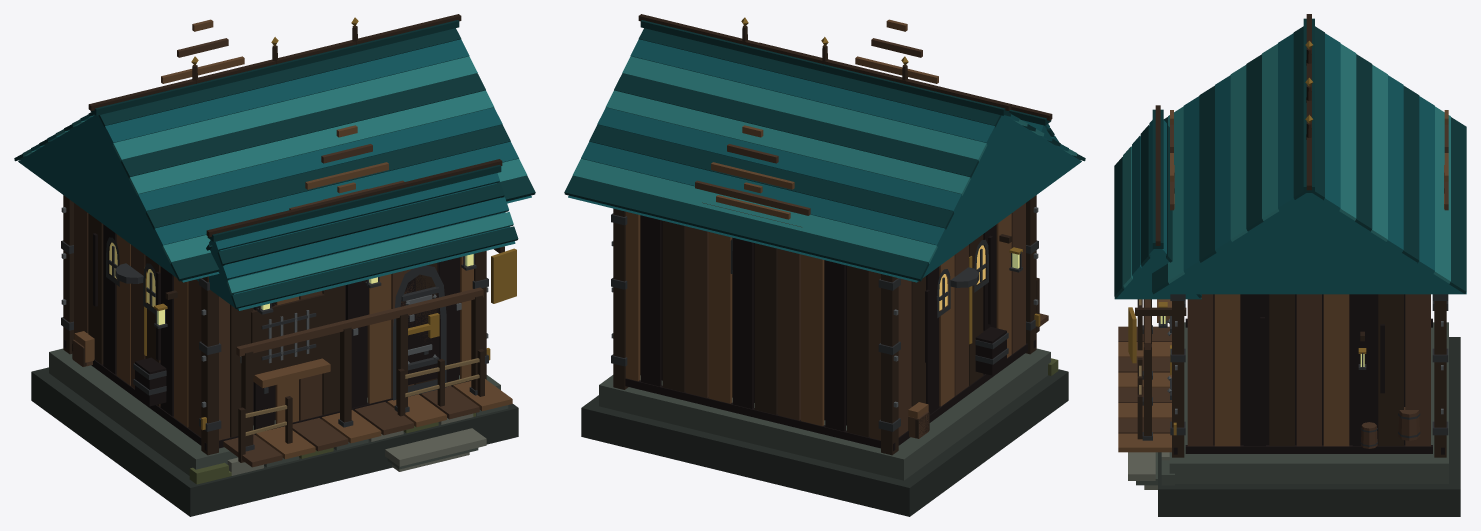
The model's file is fenbridge_gilded_strongbox.glb.
3 renders of one model, left to right at view 1: azimuth 30°, elevation 25°; view 2: azimuth 150°, elevation 25°; view 3: azimuth 270°, elevation 25°, orthographic. The views are drawn at different scales.
Parts seen in each view (by area): view 1: FenbridgeGildedStrongbox_FenbridgeOpaque, FenbridgeGildedStrongbox_FenbridgeEmissive; view 2: FenbridgeGildedStrongbox_FenbridgeOpaque; view 3: FenbridgeGildedStrongbox_FenbridgeOpaque.
Part boxes in pixels (x1,y1,x2,y2): FenbridgeGildedStrongbox_FenbridgeOpaque: (14, 14, 535, 516); FenbridgeGildedStrongbox_FenbridgeEmissive: (109, 242, 473, 324); FenbridgeGildedStrongbox_FenbridgeOpaque: (564, 14, 1085, 516); FenbridgeGildedStrongbox_FenbridgeOpaque: (1114, 14, 1466, 516).
Size of the model in its own units: 7.5 by 7.4 by 6.5.
